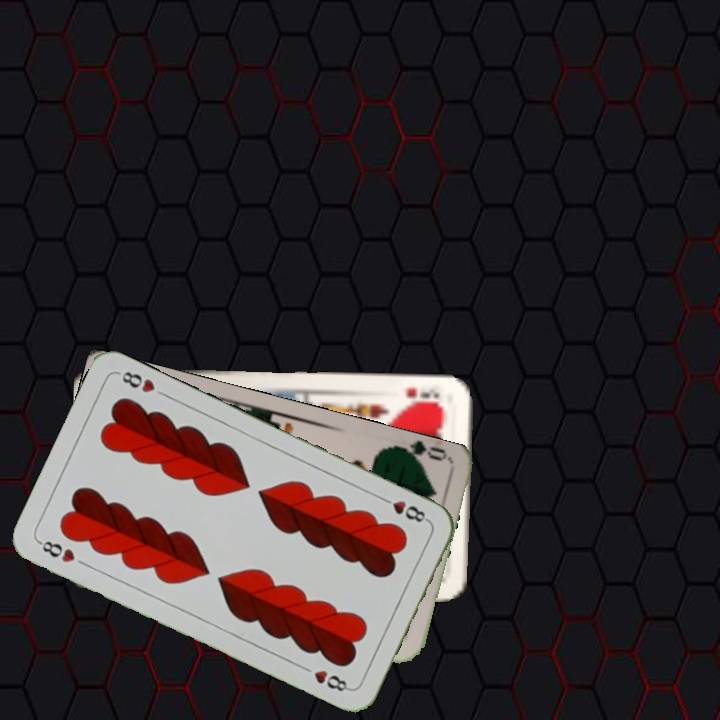GO: (389, 439, 449, 470)
H8: (376, 493, 431, 525), (34, 536, 78, 565)
HK: (400, 383, 442, 407)
